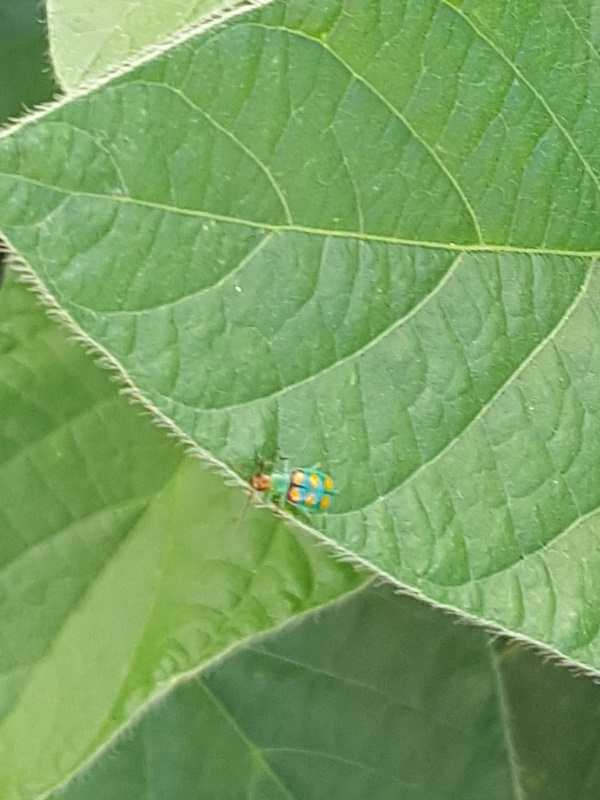Diabrotica_speciosa: (215, 419, 364, 562)
